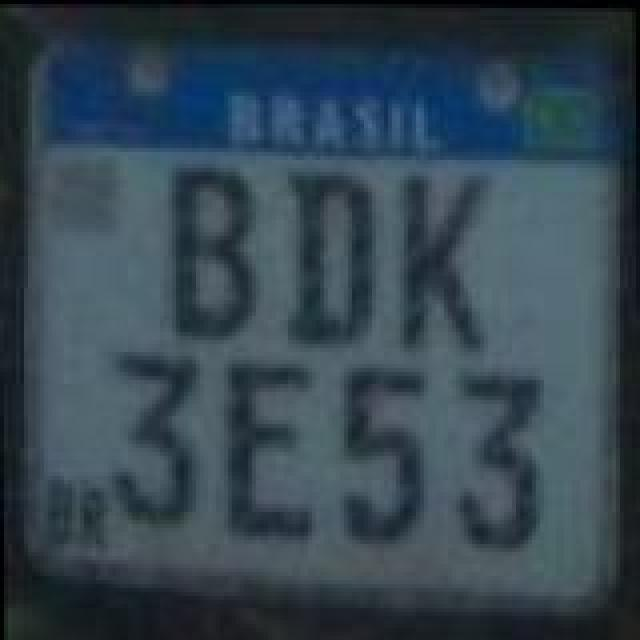3: (106, 346, 202, 534), (450, 364, 546, 552)
5: (338, 364, 434, 544)
B: (166, 166, 262, 346)
D: (274, 166, 378, 354)
E: (218, 358, 314, 546)
K: (394, 170, 498, 358)
